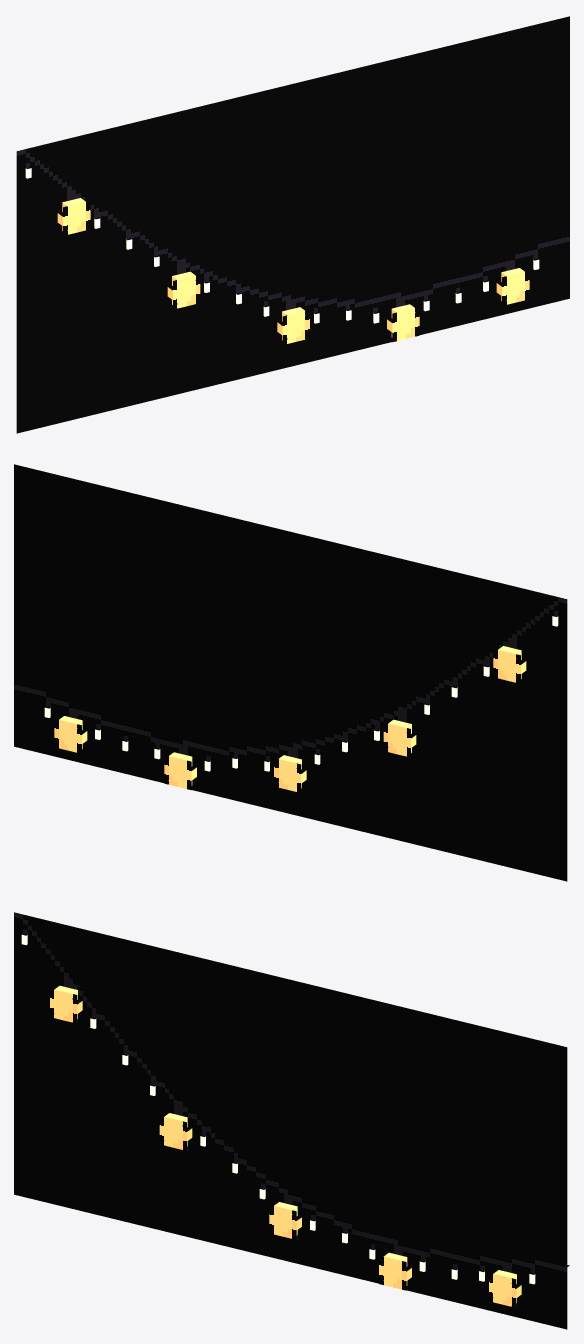
Rendered from lanterns.glb.
3 renders of one model, top to bottom at view 1: azimuth 30°, elevation 25°; view 2: azimuth 150°, elevation 25°; view 3: azimuth 330°, elevation 25°, orthographic.
Visible parts, largest first — view 1: lanterns; view 2: lanterns; view 3: lanterns.
Part boxes in pixels (bbox=[...]): lanterns: bbox=[16, 16, 569, 433]; lanterns: bbox=[14, 464, 567, 881]; lanterns: bbox=[14, 912, 569, 1329].
Bounding box in the file's own units: 121 × 59 × 5.
Materials: 1 (1 with a texture image).
